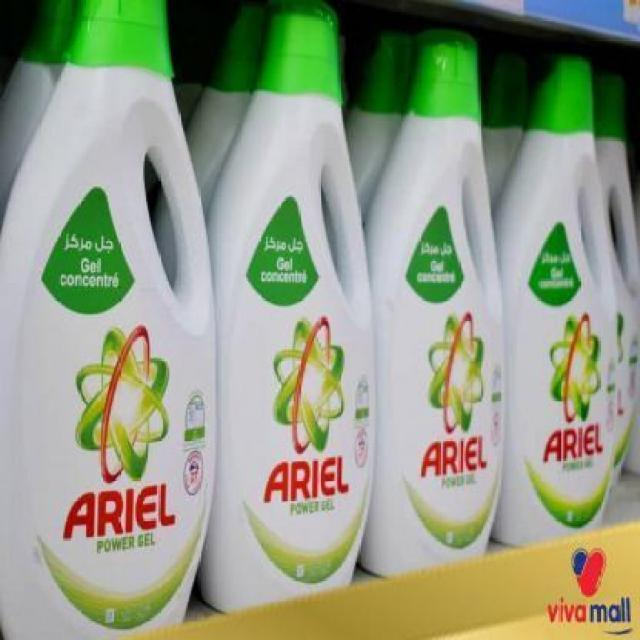Detergent: (197, 0, 396, 604), (378, 13, 506, 574), (503, 55, 624, 540)
